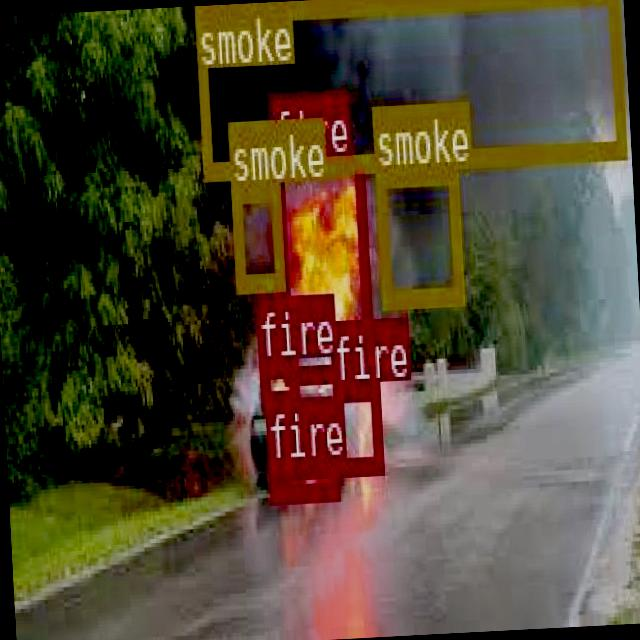fire: (272, 152, 374, 381), (332, 378, 382, 471), (268, 456, 338, 500), (257, 358, 298, 408)
smoke: (193, 0, 624, 179), (374, 162, 461, 306), (229, 179, 284, 288)
